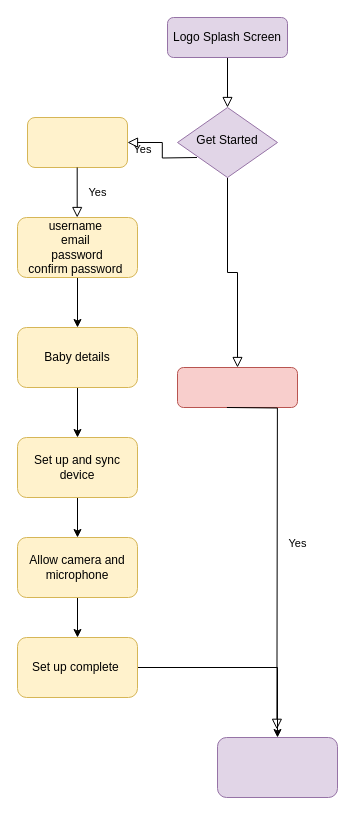
This 355x815 diagram has some shape labels left out. Here are the shapes that lost their labels. From the top down, the centre of each, then its label:
At [77,142]: "Sign up".
At [237,387]: "Log in".
At [277,767]: "Home page".
